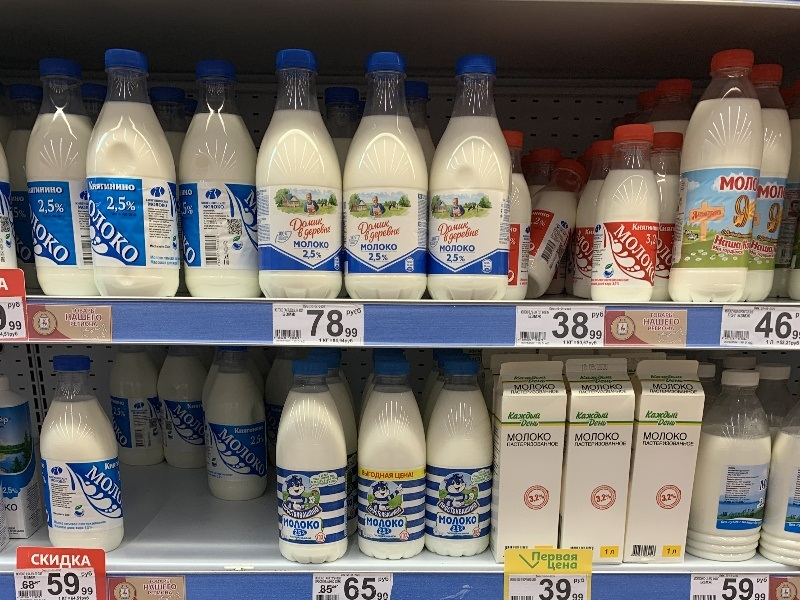milk: (244, 42, 357, 305), (83, 45, 194, 311), (166, 58, 276, 309), (665, 45, 769, 309), (339, 48, 437, 314), (432, 55, 515, 304), (23, 56, 105, 301), (37, 354, 131, 567), (264, 358, 359, 565), (690, 363, 774, 572), (356, 356, 433, 567), (558, 356, 633, 570), (421, 357, 497, 561), (493, 356, 566, 567), (628, 356, 702, 561), (194, 345, 275, 501), (595, 122, 657, 311)
